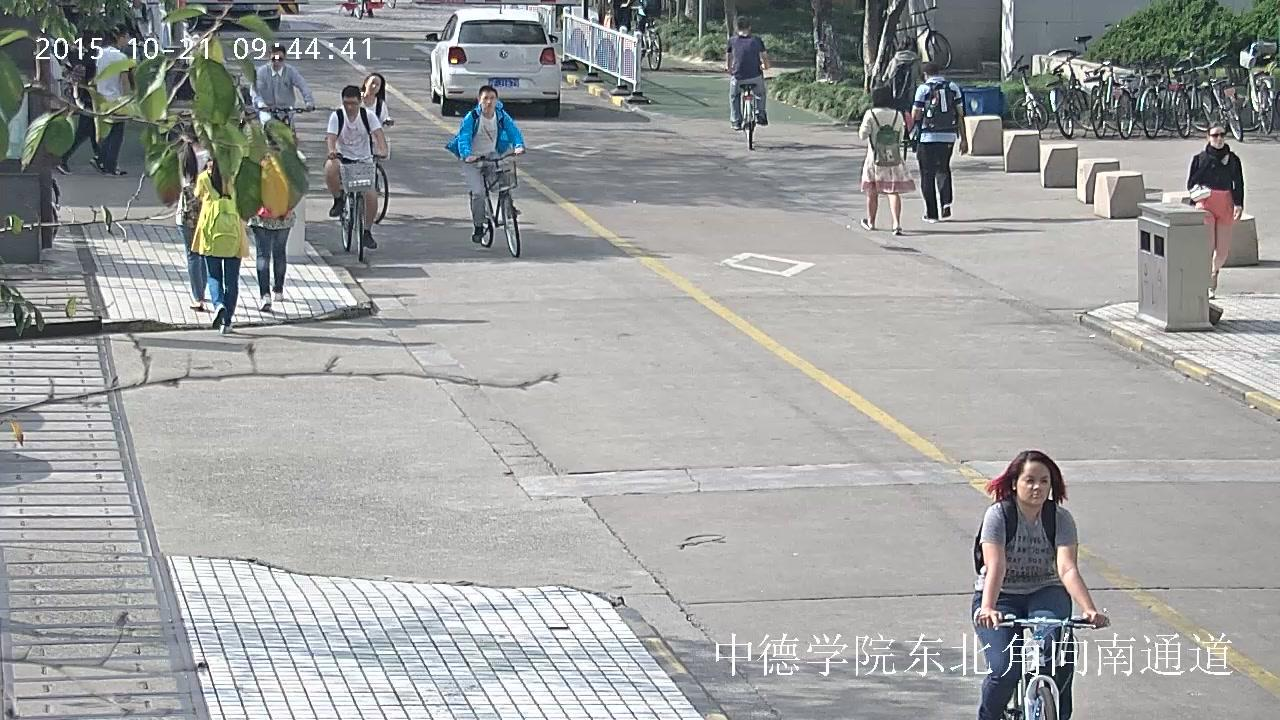face: (1016, 461, 1051, 505), (1209, 127, 1225, 149), (480, 91, 497, 111), (342, 95, 358, 113), (365, 75, 381, 93), (270, 50, 283, 67), (120, 33, 129, 45), (88, 39, 96, 46)
